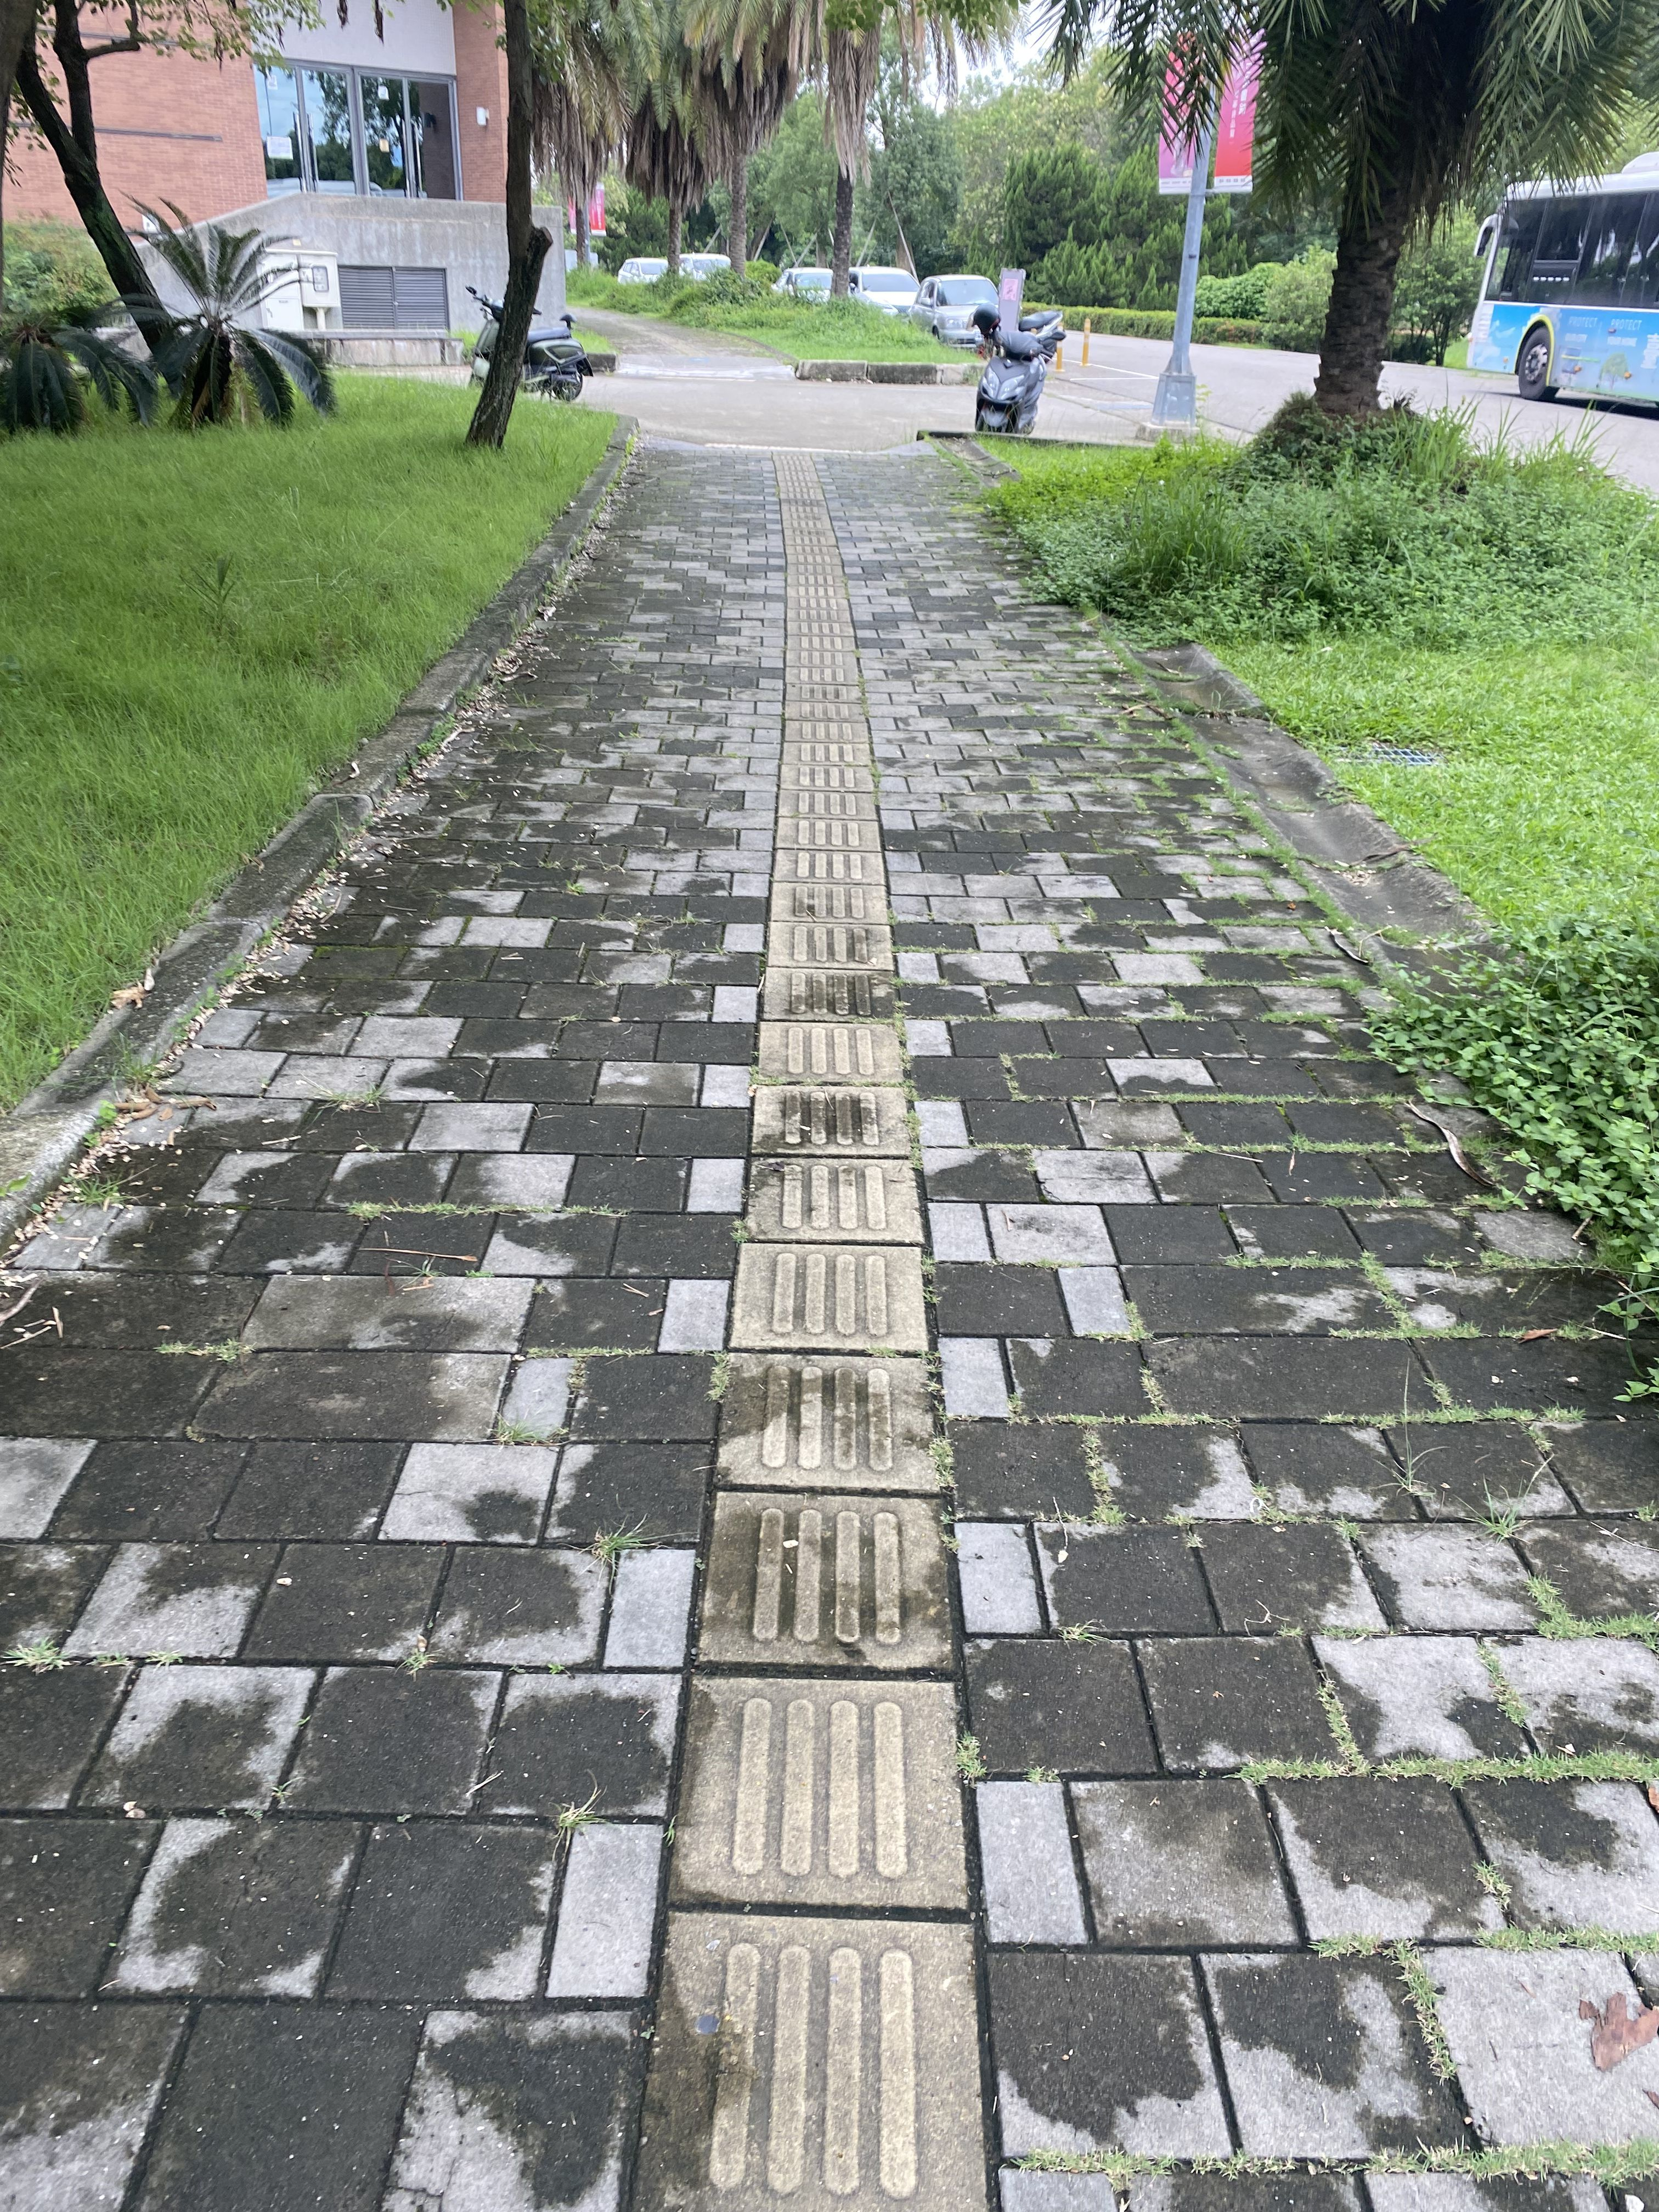sidewalk: (3, 442, 1650, 2212)
